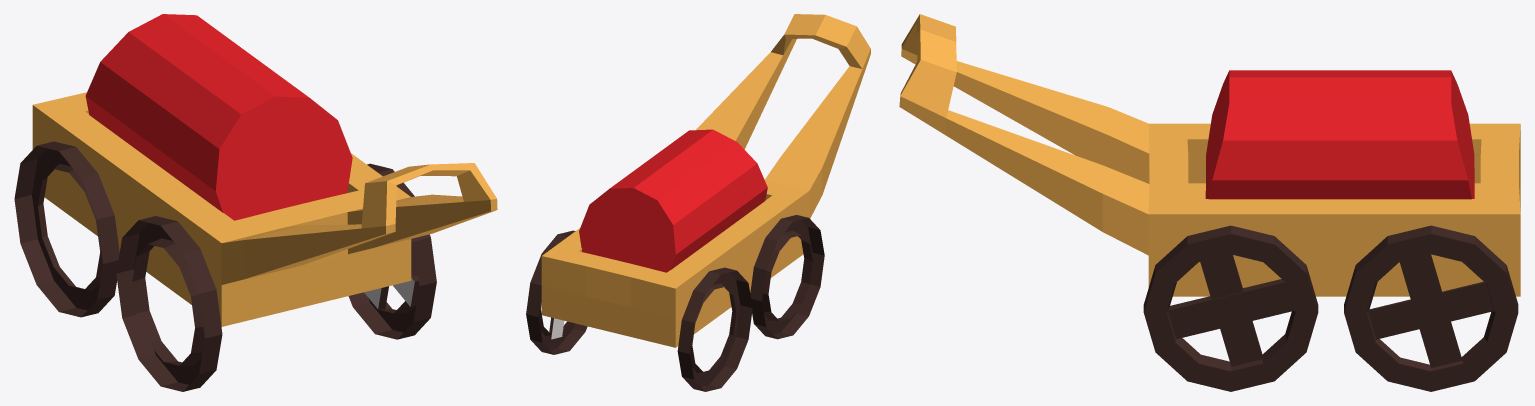
File: Cart.fbx
3 renders of one model, left to right at view 1: azimuth 30°, elevation 25°; view 2: azimuth 150°, elevation 25°; view 3: azimuth 270°, elevation 25°, orthographic. The views are drawn at different scales.
Parts seen in each view (by area): view 1: Cube; view 2: Cube; view 3: Cube.
Part boxes in pixels (x1,y1,x2,y2): Cube: (14, 14, 497, 391); Cube: (526, 14, 870, 391); Cube: (899, 14, 1520, 391).
Size of the model in its own units: 163 by 208 by 384.
